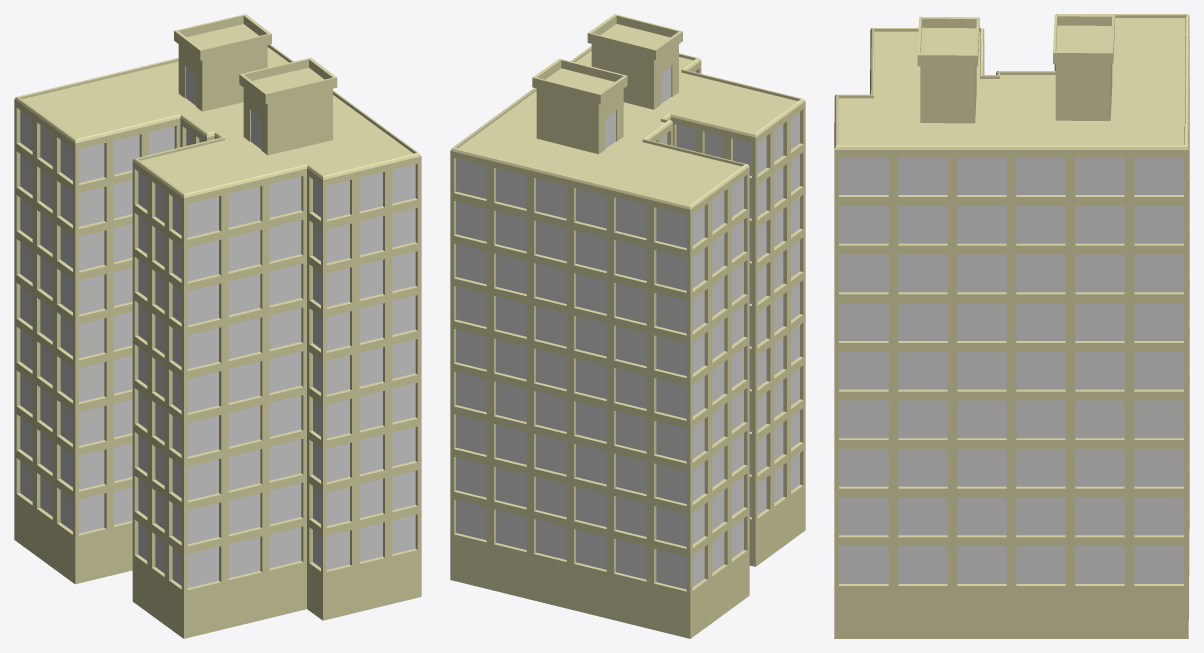
The model's file is Building6_re_05.fbx.
The picture shows the model from 3 angles, left to right: view 1: azimuth 30°, elevation 25°; view 2: azimuth 150°, elevation 25°; view 3: azimuth 270°, elevation 25°; orthographic projection. The views are drawn at different scales.
Parts seen in each view (by area): view 1: Main.007, Window, Last.007, Last.009, Door; view 2: Main.007, Window, Last.009, Last.007, Door; view 3: Main.007, Window, Last.009, Last.007.
Part boxes in pixels (x1,y1,x2,y2): Main.007: [14, 44, 421, 638]; Window: [20, 110, 415, 587]; Last.007: [239, 57, 337, 155]; Last.009: [174, 14, 271, 111]; Door: [185, 67, 261, 149]; Main.007: [450, 46, 805, 638]; Window: [456, 71, 799, 589]; Last.009: [532, 58, 627, 154]; Last.007: [587, 14, 682, 109]; Door: [605, 66, 671, 148]; Main.007: [834, 14, 1189, 638]; Window: [839, 157, 1183, 583]; Last.009: [1053, 14, 1114, 120]; Last.007: [917, 16, 979, 123].
Size of the model in its own units: 2738 by 5330 by 3073.
